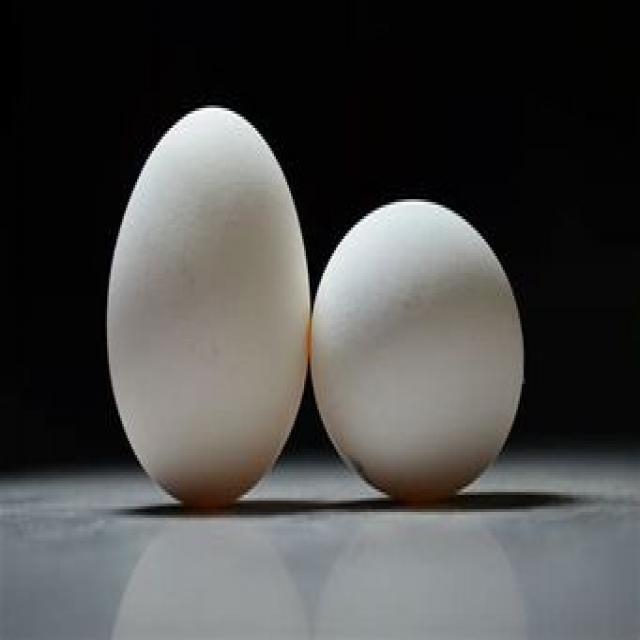Egg: (97, 80, 310, 532), (310, 172, 538, 514)
